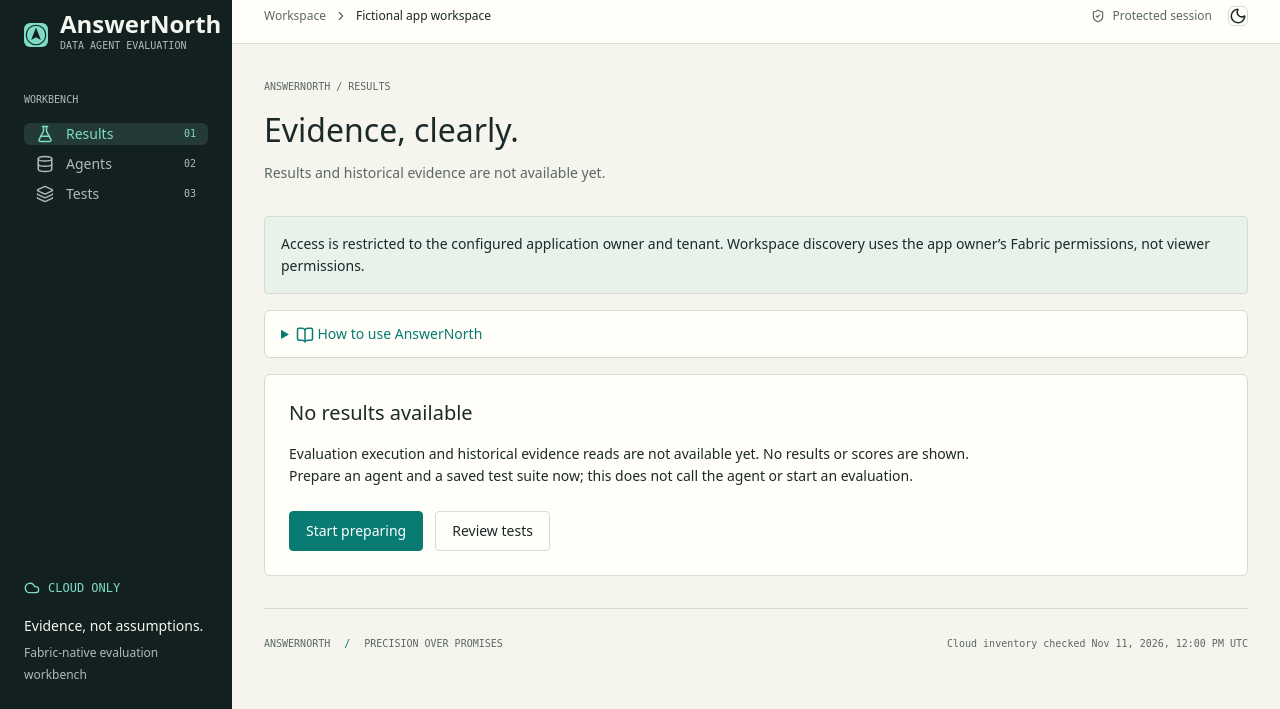
Proofbench › surfaces agent discovery errors and retries without substituting sample agents
Check: the text "Fictional app workspace" is shown, box [356,5,491,27]
Click the link "Agents 02" at (89,164), box [24,153,208,175]
(page scrolled)
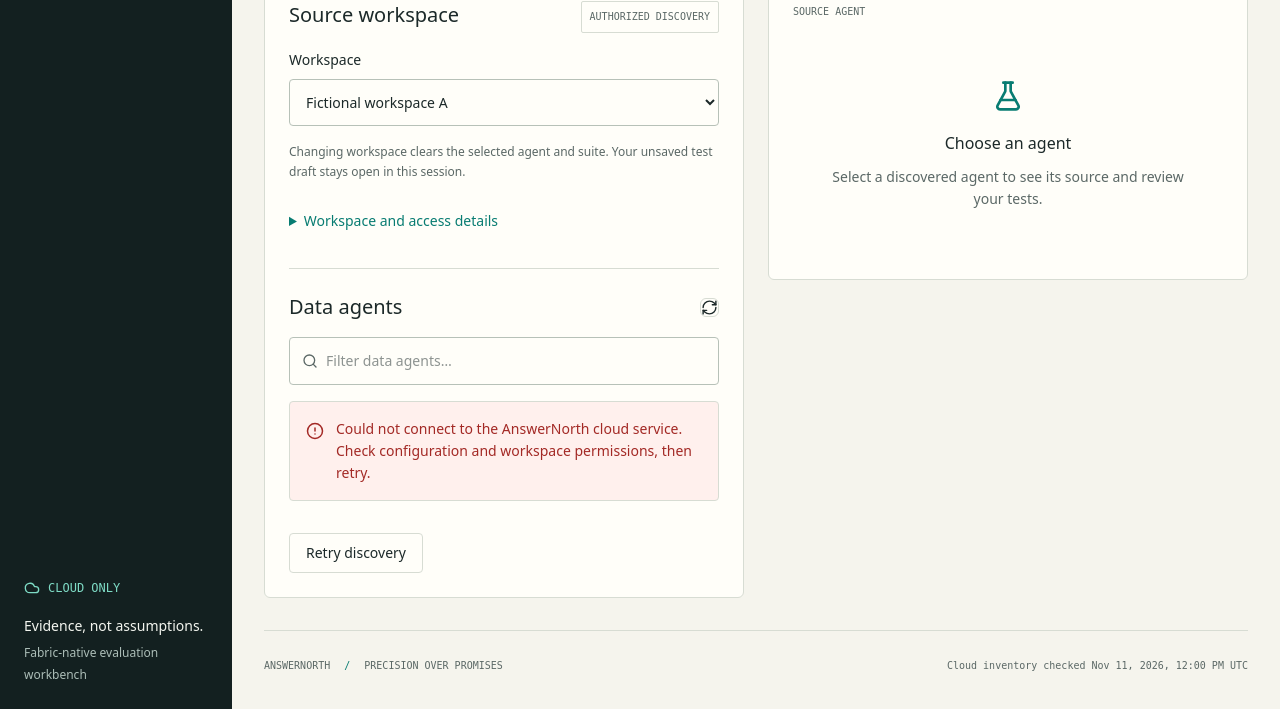
Check: the message shows "workspace permissions", box [336,419,692,482]
Click the button "Retry discovery" at (356,553), box [289,533,423,573]
(page scrolled)
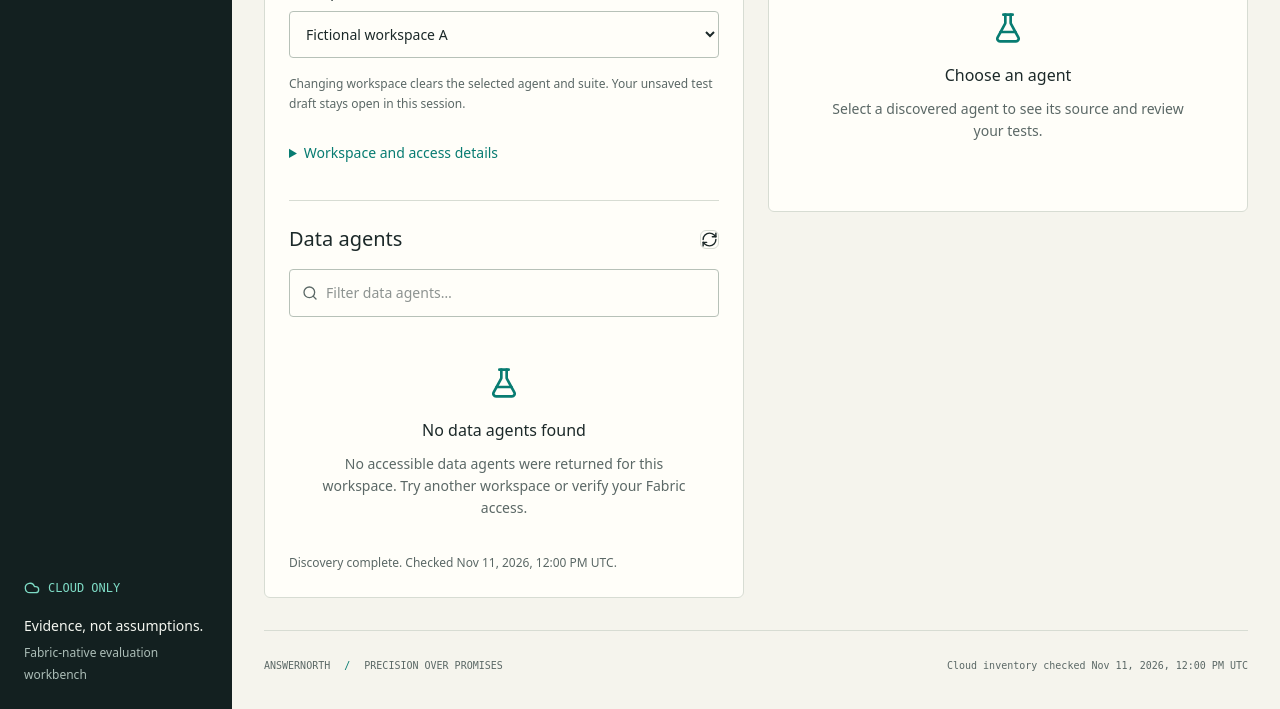
Check: the heading "No data agents found" is shown, box [422,419,586,441]
